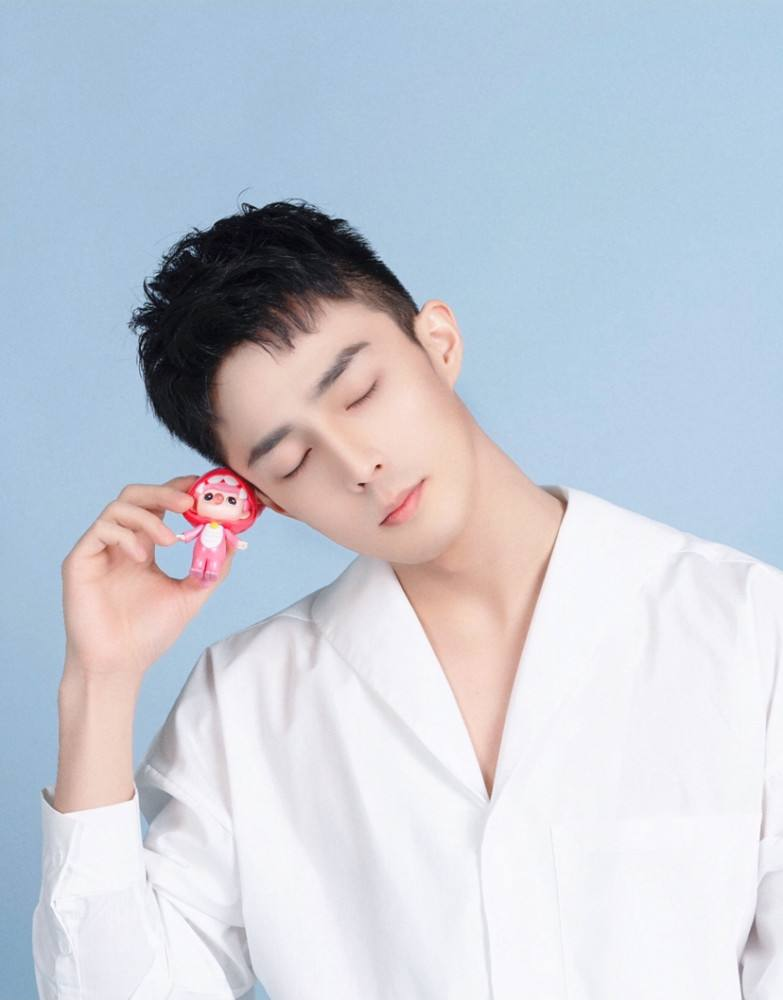person: (75, 204, 699, 1000)
